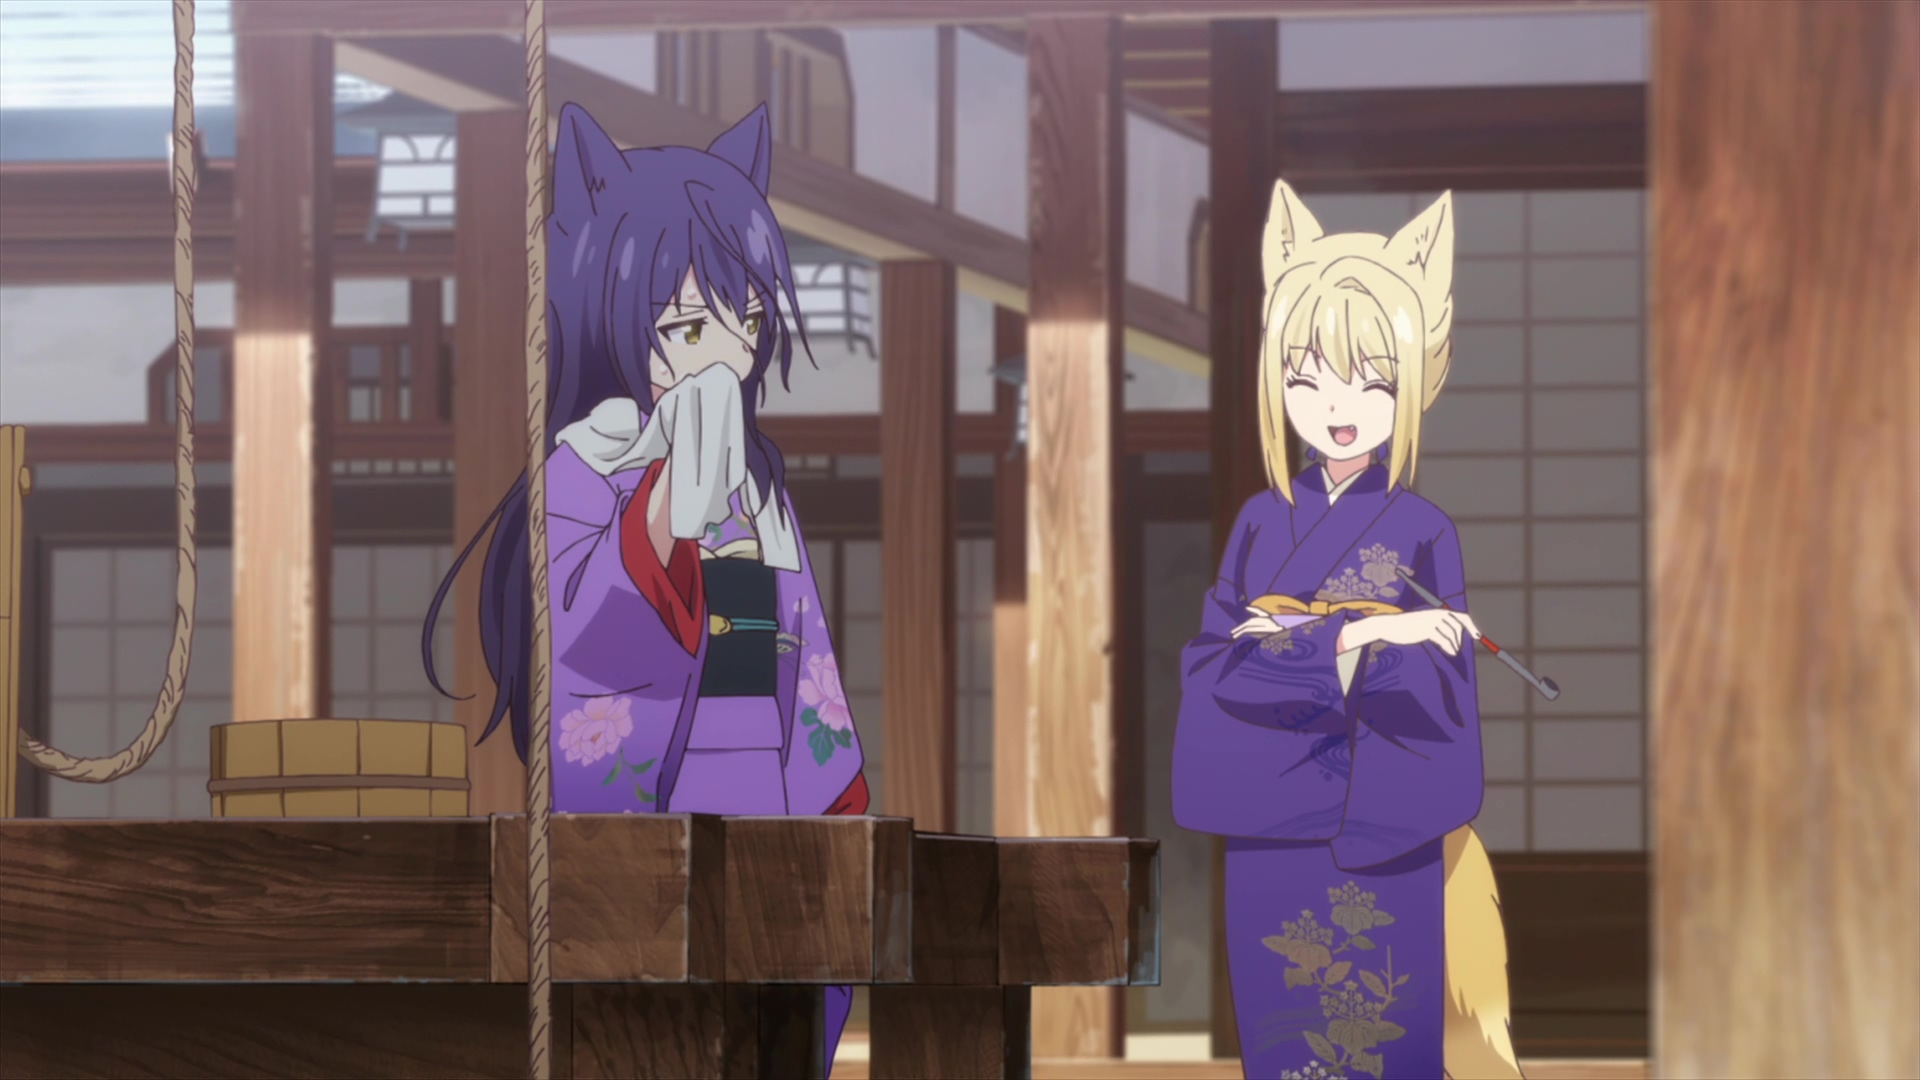桐: (1170, 178, 1526, 1080)
皋: (422, 102, 874, 818)
